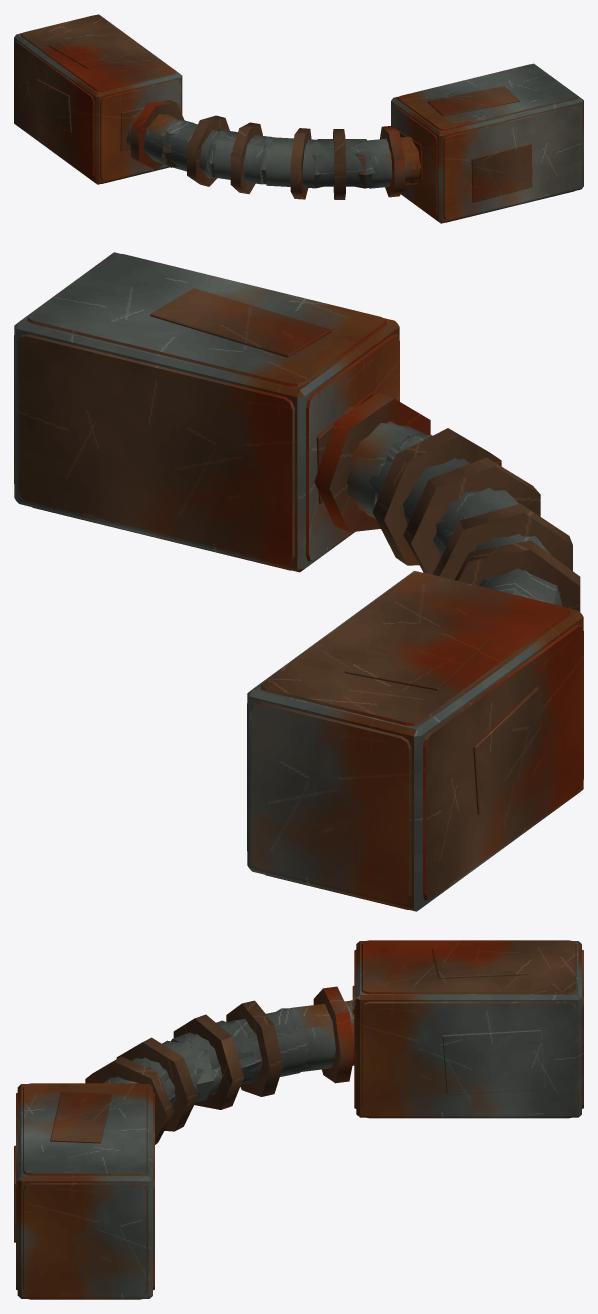
The model's file is R4C_ROD_ARC_SHORT.glb.
3 views of the same model, one above another, from view 1: azimuth 30°, elevation 25°; view 2: azimuth 150°, elevation 25°; view 3: azimuth 270°, elevation 25° (orthographic). The views are drawn at different scales.
Visible parts, largest first — view 1: R4C_ROD_ARC_SHORT; view 2: R4C_ROD_ARC_SHORT; view 3: R4C_ROD_ARC_SHORT.
Part boxes in pixels (x1=…): R4C_ROD_ARC_SHORT: x1=14, y1=14, x2=583, y2=223; R4C_ROD_ARC_SHORT: x1=14, y1=252, x2=583, y2=911; R4C_ROD_ARC_SHORT: x1=14, y1=940, x2=583, y2=1299.
Size of the model in its own units: 0.926 by 0.232 by 0.926.
Materials: 4 (4 with a texture image).
